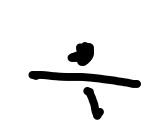div: (26, 38, 142, 115)
